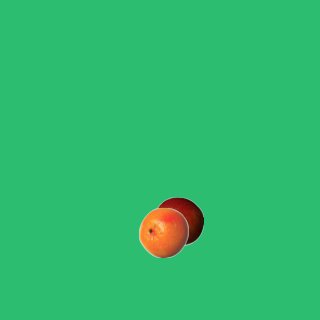Apple Braeburn: (153, 196, 203, 246)
Grapefruit Pink: (138, 207, 188, 257)
